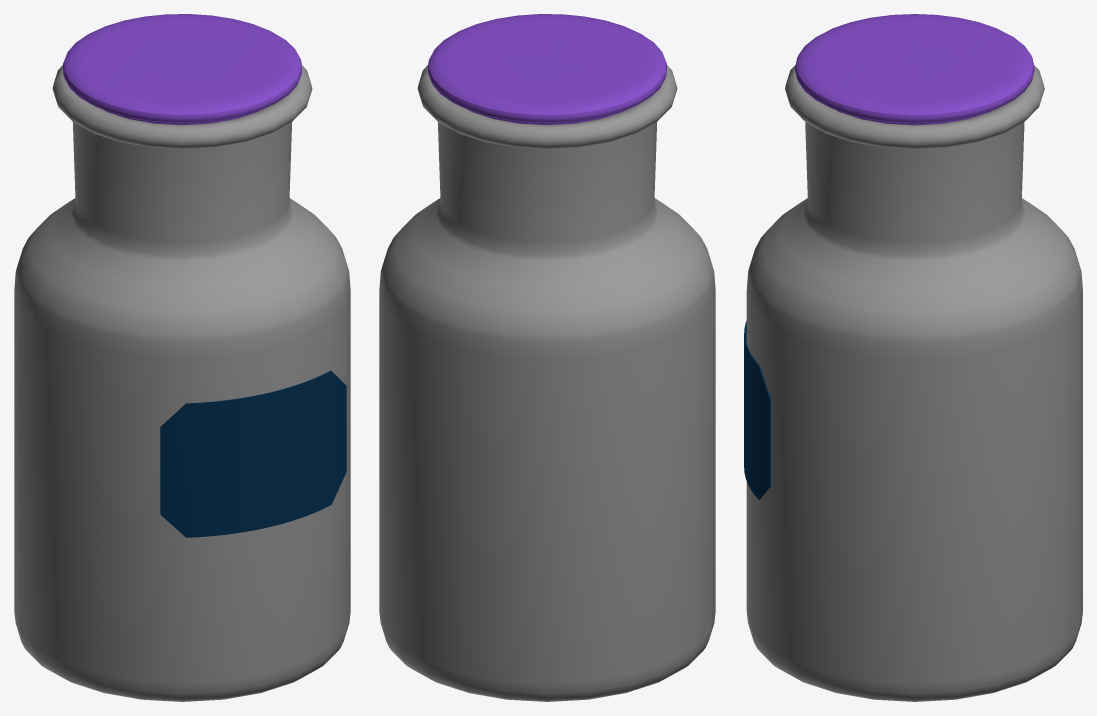
Rendered from 聚乙烯瓶.FBX.
The picture shows the model from 3 angles, left to right: view 1: azimuth 30°, elevation 25°; view 2: azimuth 150°, elevation 25°; view 3: azimuth 270°, elevation 25°; orthographic projection.
Parts seen in each view (by area): view 1: 瓶子, 标签, 盖子001; view 2: 瓶子, 盖子001; view 3: 瓶子, 盖子001, 标签.
Boxes of the visible parts, bbox=[...] form: 瓶子: bbox=[14, 65, 350, 701]; 标签: bbox=[160, 370, 346, 537]; 盖子001: bbox=[63, 14, 301, 124]; 瓶子: bbox=[379, 65, 715, 701]; 盖子001: bbox=[428, 14, 666, 124]; 瓶子: bbox=[746, 65, 1082, 701]; 盖子001: bbox=[795, 14, 1034, 125]; 标签: bbox=[744, 321, 770, 499].
Size of the model in its own units: 17.02 by 32.21 by 17.15.
